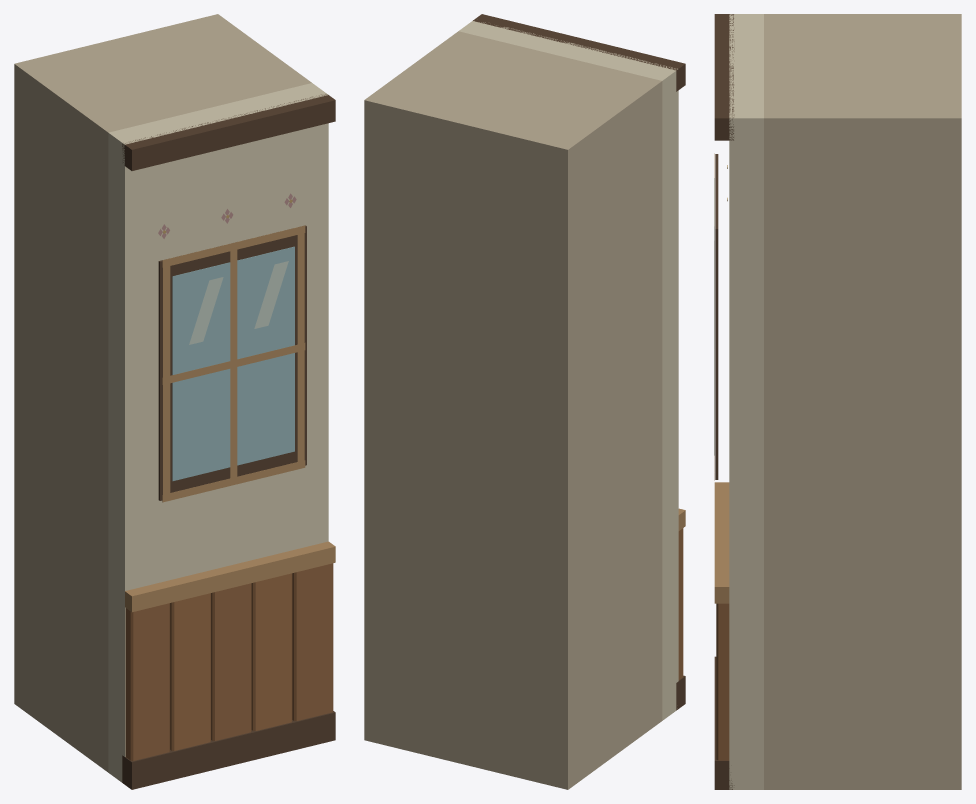
File: wall_home_window.glb
3 views of the same model, side by side, from view 1: azimuth 30°, elevation 25°; view 2: azimuth 150°, elevation 25°; view 3: azimuth 270°, elevation 25° (orthographic). The views are drawn at different scales.
Parts seen in each view (by area): view 1: face_front, geometry; view 2: geometry, face_front; view 3: geometry, face_front.
Boxes of the visible parts, x1,y1,x2,y2 form: face_front: (108, 83, 335, 789); geometry: (14, 14, 311, 772); geometry: (364, 31, 662, 789); face_front: (458, 14, 685, 720); geometry: (764, 14, 961, 789); face_front: (714, 14, 763, 789).
Size of the model in its own units: 1 by 3 by 1.
